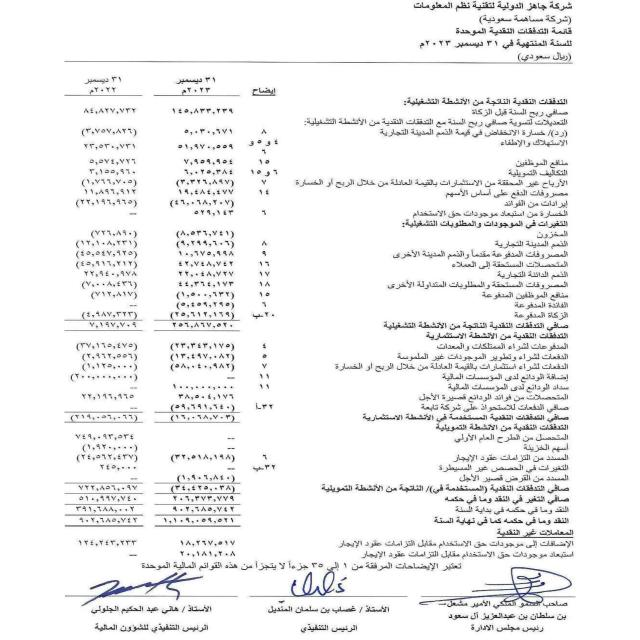financial_sheets: (434, 25, 580, 39)
table: (34, 68, 283, 563)
